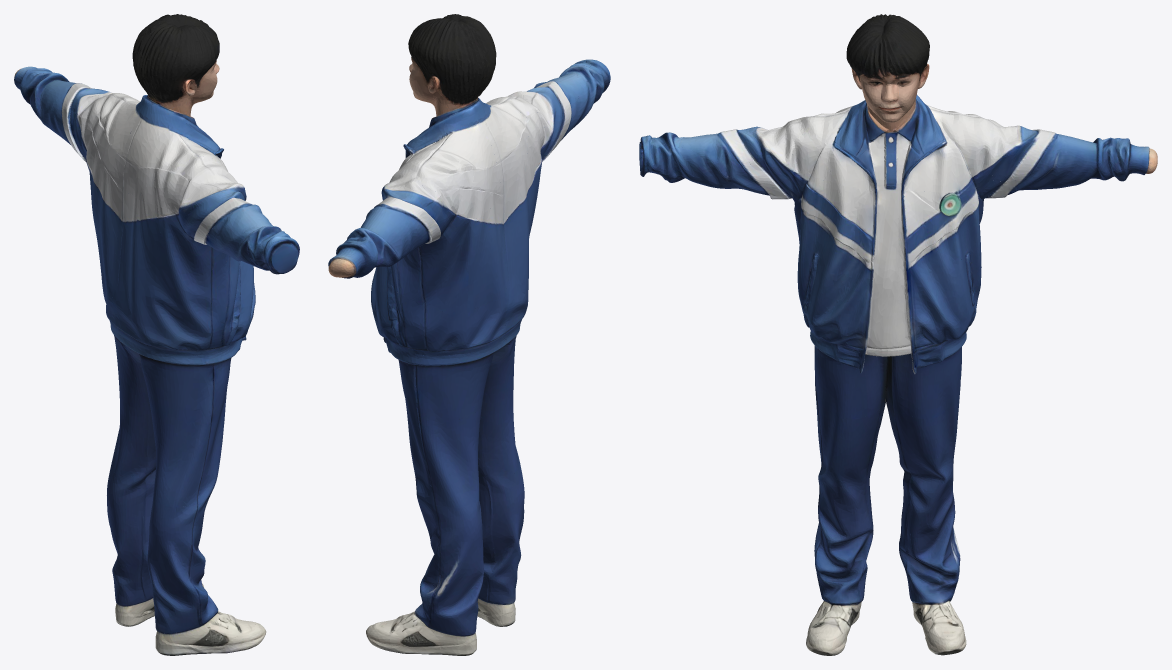
The model's file is studentMale-01.fbx.
The picture shows the model from 3 angles, left to right: view 1: azimuth 30°, elevation 25°; view 2: azimuth 150°, elevation 25°; view 3: azimuth 270°, elevation 25°; orthographic projection.
Parts seen in each view (by area): view 1: tripo_node_8fb05800-c6e1-4dd0-bdf4-b8bab60a8820; view 2: tripo_node_8fb05800-c6e1-4dd0-bdf4-b8bab60a8820; view 3: tripo_node_8fb05800-c6e1-4dd0-bdf4-b8bab60a8820.
Boxes of the visible parts, bbox=[...] form: tripo_node_8fb05800-c6e1-4dd0-bdf4-b8bab60a8820: bbox=[14, 14, 299, 655]; tripo_node_8fb05800-c6e1-4dd0-bdf4-b8bab60a8820: bbox=[328, 14, 610, 655]; tripo_node_8fb05800-c6e1-4dd0-bdf4-b8bab60a8820: bbox=[639, 14, 1157, 655].
Bounding box in the file's own units: 20.95 × 99.91 × 76.69.
1 material, 1 textured.
